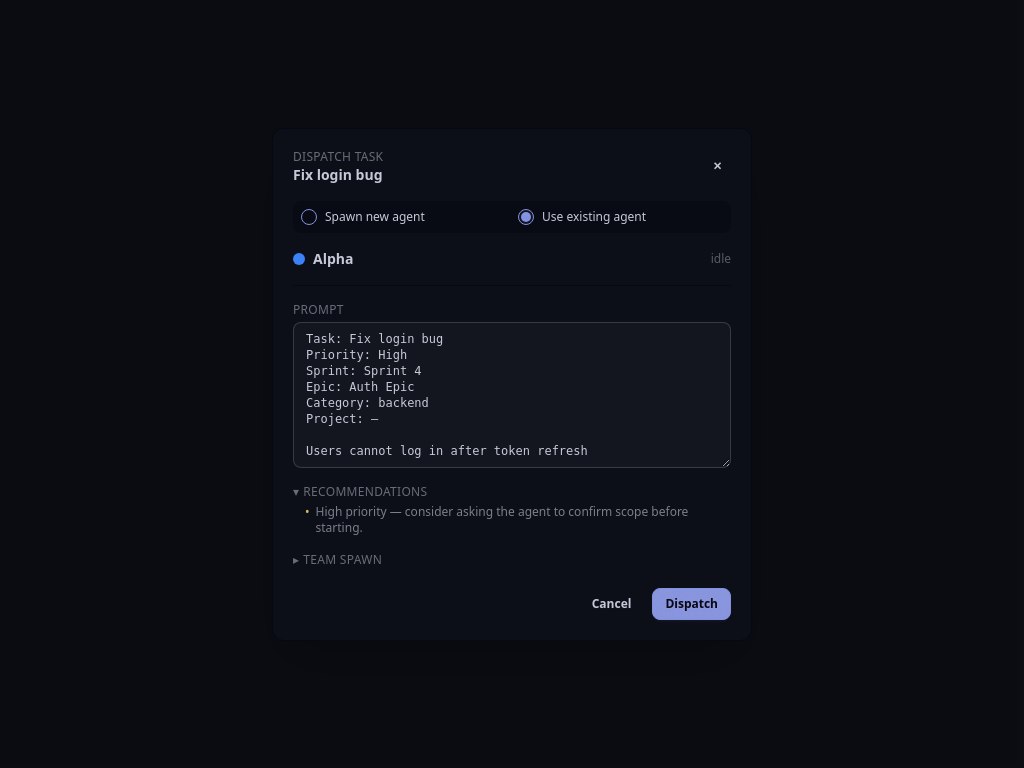
Scenario: KanbanDispatchModal — team spawn › shows concurrency warning when total would exceed 5 active agents
The image size is (1024, 768).
What coordinates should you click on to do the following:
click the button "▸ Team spawn"
I would click on:
 (343, 559)
Its box is left=293, top=552, right=731, bottom=568.
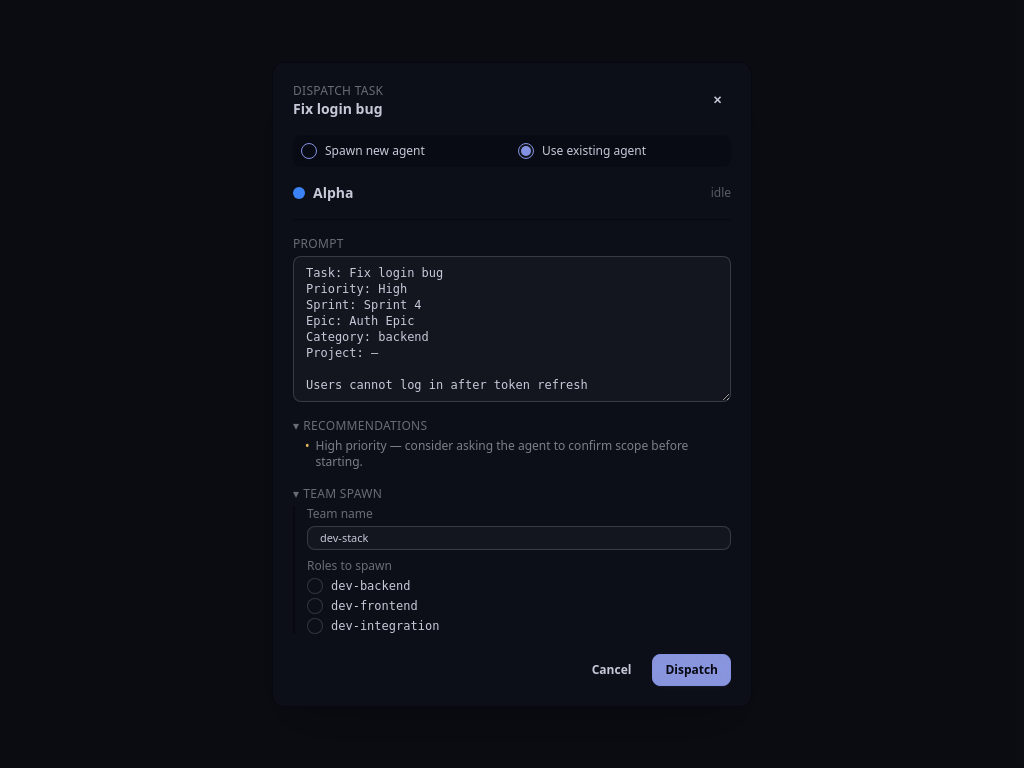
What coordinates should you click on to do the following:
click the checkbox labelled "dev-backend"
I would click on:
 (315, 586)
Its box is left=307, top=578, right=323, bottom=594.
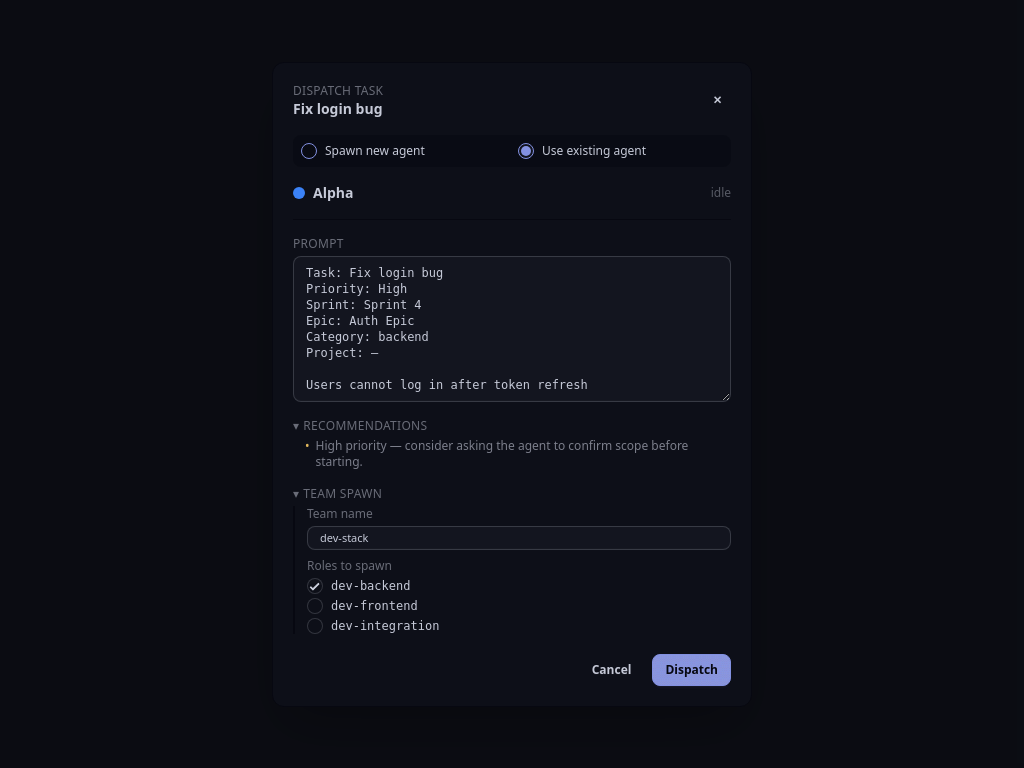
What coordinates should you click on to do the following:
click the checkbox labelled "dev-frontend"
I would click on:
 (315, 606)
Its box is left=307, top=598, right=323, bottom=614.
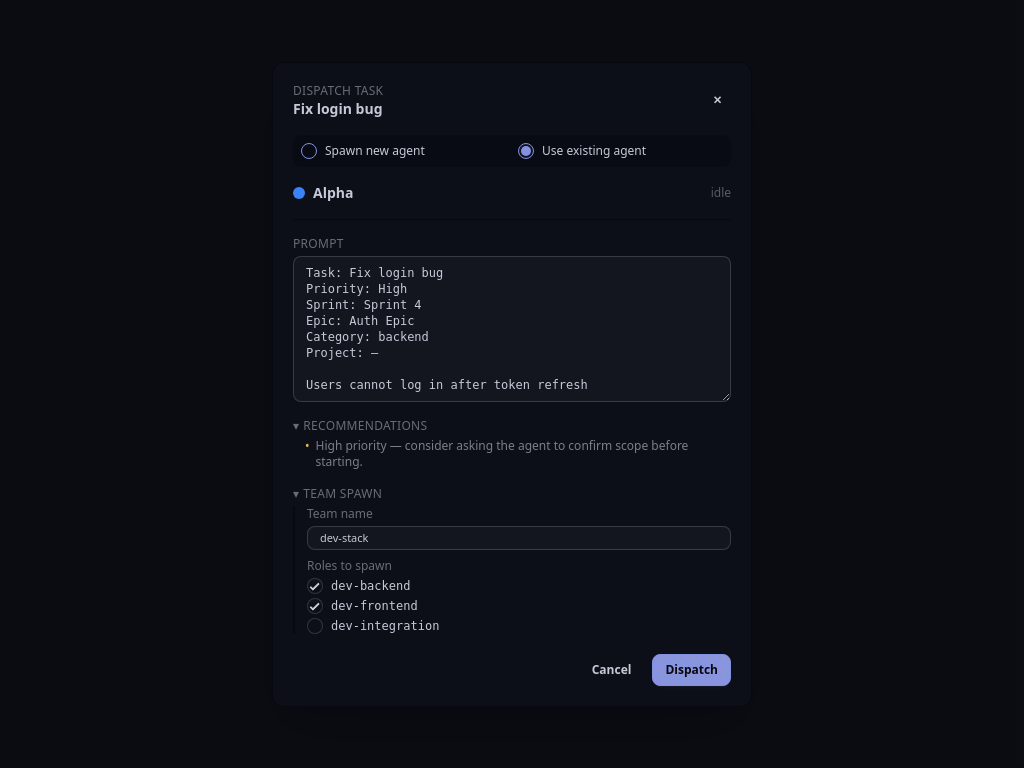
What coordinates should you click on to do the following:
click the checkbox labelled "dev-integration"
I would click on:
 (315, 626)
Its box is left=307, top=618, right=323, bottom=634.
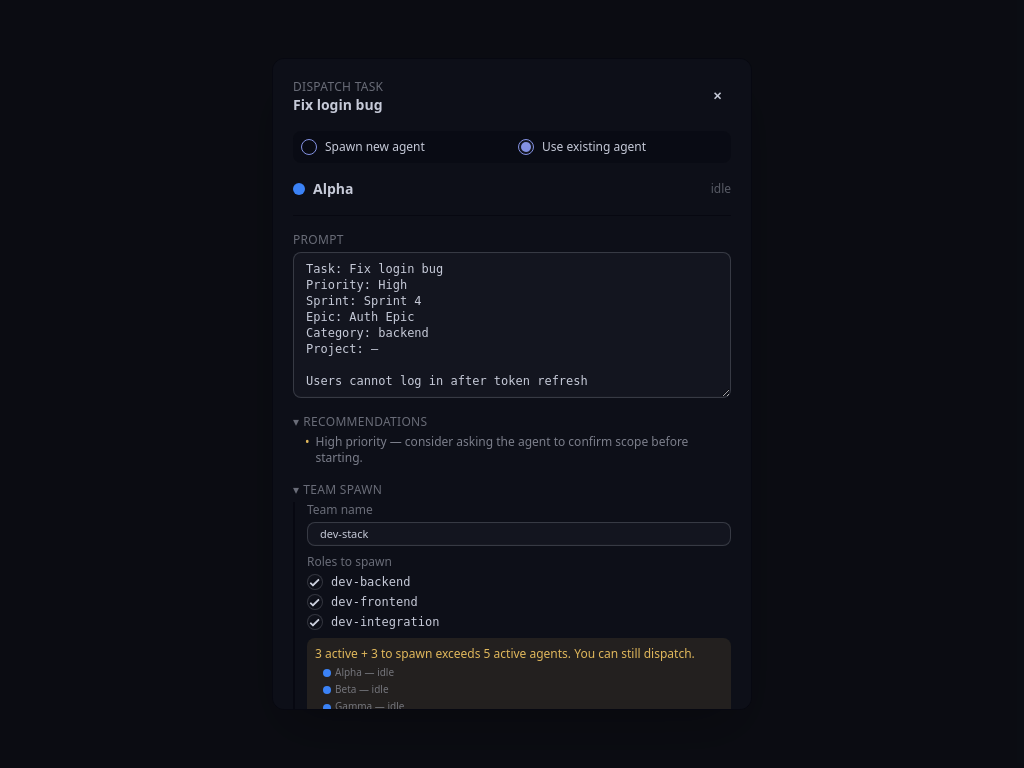
expect the text "exceeds 5 active agents" is shown: met, box left=378, top=645, right=695, bottom=662
